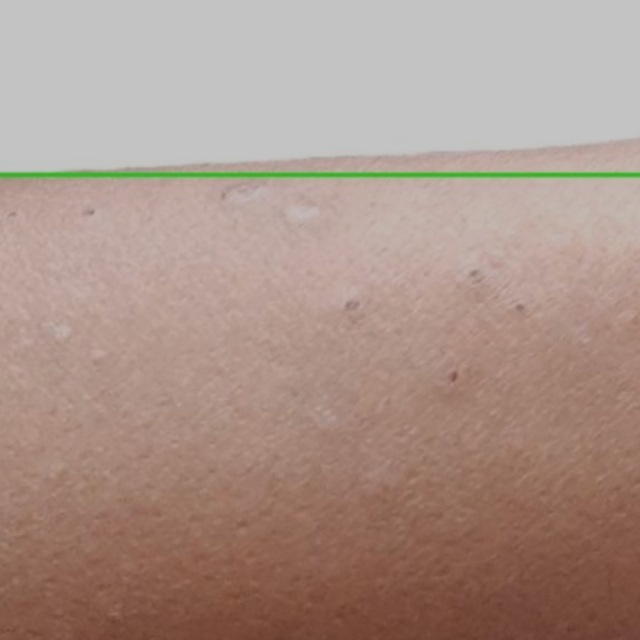Scabies: (0, 0, 639, 176)
